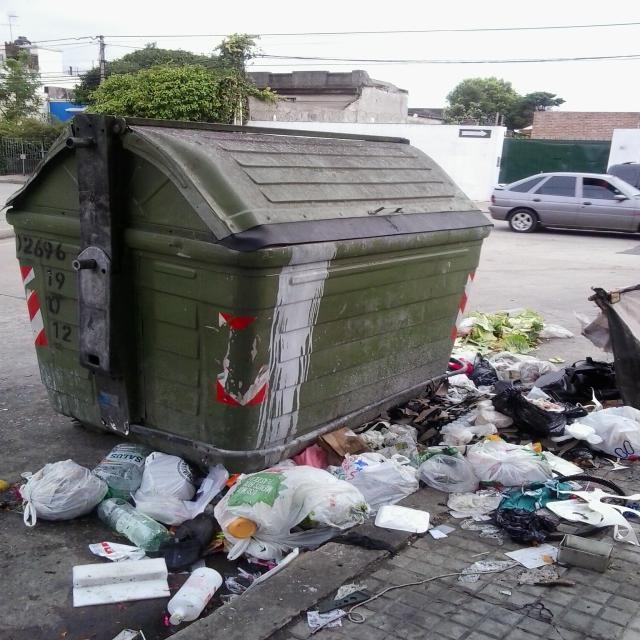garbage: (12, 440, 361, 630), (349, 371, 640, 568), (458, 307, 640, 389)
